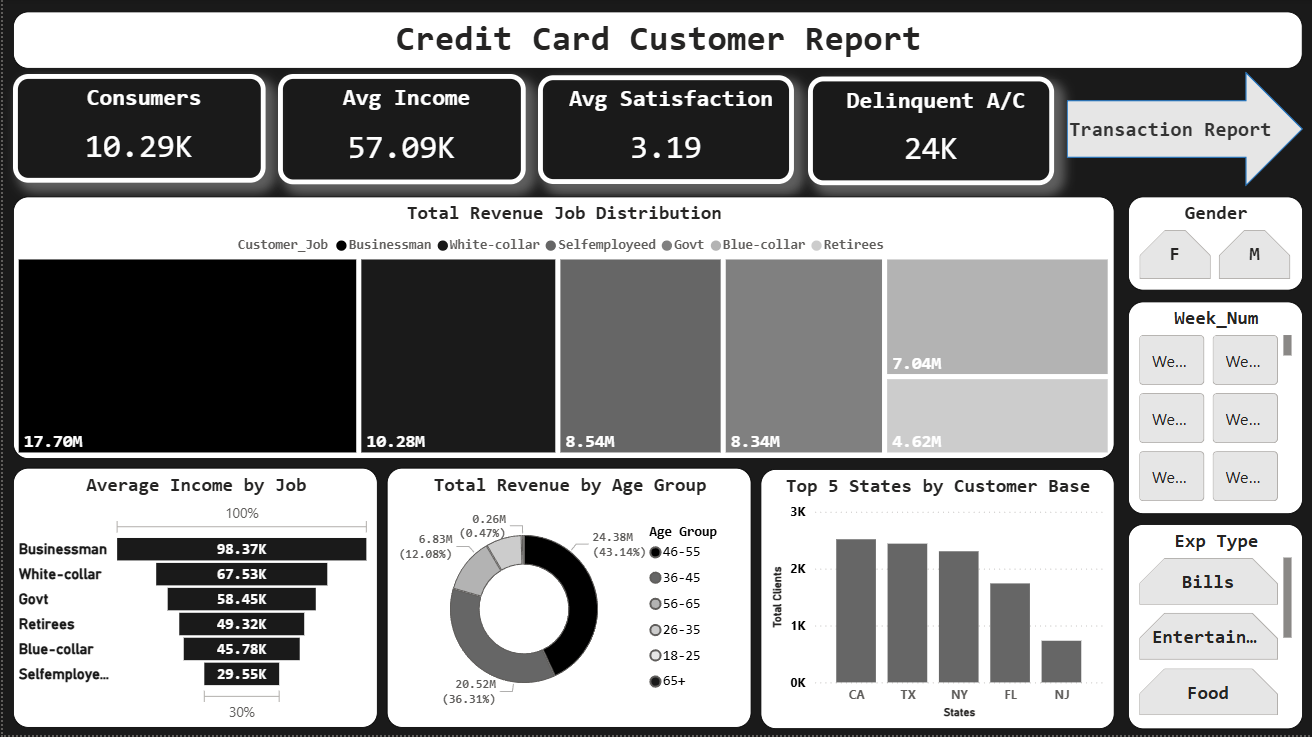

What the dashboard file says about the page in this screenshot:
{"tool":"powerbi","page":{"name":"Page 1","canvas":[1280,720],"ordinal":0},"visuals":[{"type":"textbox","title":"Credit Card Customer Report","box":[9.8,12.8,1262,56.3],"z":0},{"type":"advancedSlicerVisual","fields":{"Values":["customer.Gender"]},"box":[1100.5,193.2,171.2,91.7],"z":1000},{"type":"card","title":"Consumers","fields":{"Values":["CountNonNull(customer.Client_Num)"]},"box":[9.8,73.4,247,106.4],"z":2000},{"type":"card","title":"Avg Income","fields":{"Values":["Avg(customer.Income)"]},"box":[269,73.4,242.1,107.6],"z":3000},{"type":"card","title":"Avg Satisfaction","fields":{"Values":["Avg(customer.Cust_Satisfaction_Score)"]},"box":[523.4,74.6,250.7,106.4],"z":4000},{"type":"card","title":"Delinquent A/C","fields":{"Values":["Sum(customer.Dependent_Count)"]},"box":[787.5,75.8,240.9,106.4],"z":5000},{"type":"advancedSlicerVisual","fields":{"Values":["Sheet1.Week_Num"]},"box":[1100.5,295.9,171.2,207.9],"z":6000},{"type":"advancedSlicerVisual","fields":{"Values":["Sheet1.Exp Type"]},"box":[1100.5,513.6,171.2,200.5],"z":7000},{"type":"shape","title":"Transaction Report","box":[1040.6,70.9,231.1,112.5],"z":8000},{"type":"treemap","title":"Total Revenue Job Distribution","fields":{"Group":["customer.Customer_Job"],"Values":["Sheet1.Total Revenue"]},"box":[9.8,193.2,1077.3,256.8],"z":9000},{"type":"funnel","fields":{"Category":["customer.Customer_Job"],"Y":["Avg(customer.Income)"]},"box":[9.8,458.6,357.1,254.3],"z":10000},{"type":"donutChart","fields":{"Category":["customer.Age Group"],"Y":["Sheet1.Total Revenue"]},"box":[375.4,458.6,357.1,254.3],"z":11000},{"type":"clusteredColumnChart","title":"Top 5 States by Customer Base","fields":{"Category":["customer.state_cd"],"Y":["CountNonNull(customer.Client_Num)"]},"box":[741,459.8,346.1,254.3],"z":12000}]}

Visuals, with their boxes in screenshot pixels (x1, y1, x2, y2), scaled from the page's 1280x720 canvas onto the 1312x737 screenshot:
"Credit Card Customer Report" textbox: (left=10, top=13, right=1304, bottom=71)
advancedSlicerVisual - customer.Gender: (left=1128, top=198, right=1303, bottom=292)
"Consumers" card: (left=10, top=75, right=263, bottom=184)
"Avg Income" card: (left=276, top=75, right=524, bottom=185)
"Avg Satisfaction" card: (left=536, top=76, right=793, bottom=185)
"Delinquent A/C" card: (left=807, top=78, right=1054, bottom=187)
advancedSlicerVisual - Sheet1.Week_Num: (left=1128, top=303, right=1303, bottom=516)
advancedSlicerVisual - Sheet1.Exp Type: (left=1128, top=526, right=1303, bottom=731)
"Transaction Report" shape: (left=1067, top=73, right=1303, bottom=188)
"Total Revenue Job Distribution" treemap: (left=10, top=198, right=1114, bottom=461)
funnel - customer.Customer_Job x Avg(customer.Income): (left=10, top=469, right=376, bottom=730)
donutChart - customer.Age Group x Sheet1.Total Revenue: (left=385, top=469, right=751, bottom=730)
"Top 5 States by Customer Base" clusteredColumnChart: (left=760, top=471, right=1114, bottom=731)
